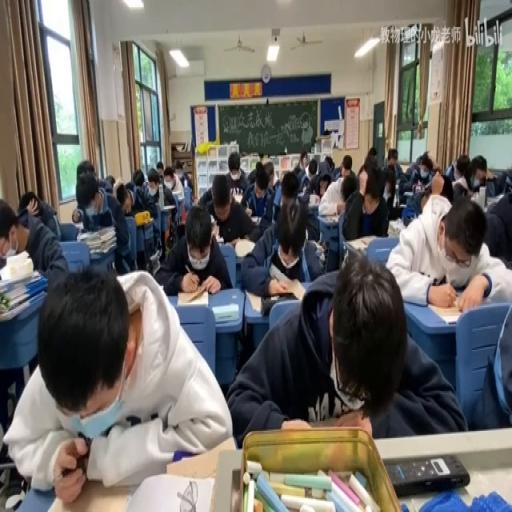calculator: (124, 471, 216, 512), (50, 471, 130, 512), (269, 267, 306, 300), (426, 302, 462, 324), (77, 224, 115, 242), (344, 234, 379, 250), (177, 287, 206, 306), (212, 302, 238, 322), (308, 239, 326, 266), (234, 236, 256, 256), (92, 209, 112, 229), (244, 290, 262, 312), (386, 218, 402, 236), (90, 246, 115, 257), (230, 186, 244, 204), (321, 213, 339, 225), (210, 222, 219, 240), (307, 196, 319, 209), (160, 204, 174, 210), (403, 189, 415, 196), (250, 215, 260, 223), (217, 235, 224, 243)
paper: (9, 262, 231, 498), (224, 247, 459, 444), (386, 189, 510, 312), (154, 202, 229, 296), (464, 291, 510, 431), (74, 168, 132, 274), (2, 194, 67, 288), (342, 160, 388, 240), (130, 168, 164, 257), (243, 164, 275, 224), (412, 170, 451, 218), (222, 151, 249, 196), (482, 162, 511, 199), (298, 158, 320, 195), (382, 145, 404, 179), (464, 158, 486, 192), (17, 192, 39, 218), (279, 171, 298, 199), (174, 158, 190, 188), (339, 154, 356, 179), (418, 151, 434, 175), (75, 159, 93, 179), (454, 155, 468, 179), (405, 165, 420, 185), (122, 181, 134, 202), (131, 168, 144, 186), (444, 161, 456, 179), (331, 165, 342, 181), (71, 206, 82, 222), (155, 159, 164, 178), (114, 183, 123, 202), (324, 155, 334, 172), (386, 174, 395, 192), (254, 161, 264, 175), (103, 175, 115, 186), (366, 145, 376, 158), (164, 175, 173, 188), (260, 154, 270, 164), (309, 163, 316, 175), (433, 164, 441, 174), (301, 155, 307, 168)
person: (384, 452, 470, 494)
